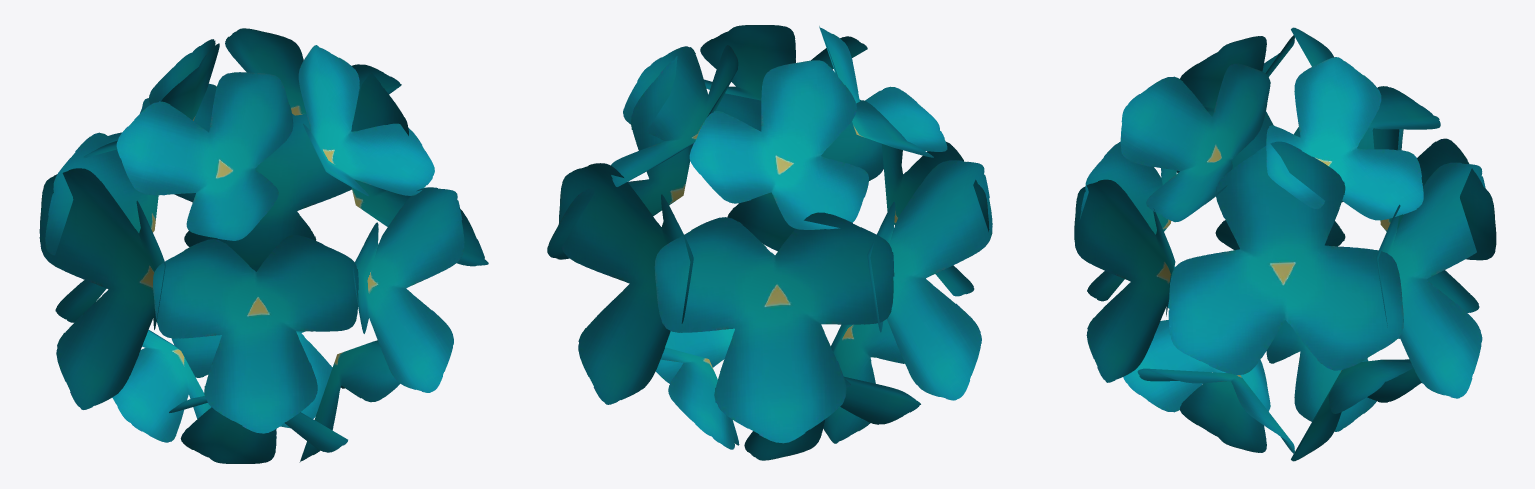
Rendered from quaternius-ultimate-stylized-nature-petals-1.glb.
3 views of the same model, side by side, from view 1: azimuth 30°, elevation 25°; view 2: azimuth 150°, elevation 25°; view 3: azimuth 270°, elevation 25° (orthographic).
Parts seen in each view (by area): view 1: Petals_1; view 2: Petals_1; view 3: Petals_1.
Boxes of the visible parts, x1=… form: Petals_1: x1=39, y1=28, x2=488, y2=463; Petals_1: x1=547, y1=25, x2=992, y2=460; Petals_1: x1=1074, y1=27, x2=1496, y2=461.
Bounding box in the file's own units: 0.6381 × 0.6267 × 0.6698.
1 material, 1 textured.
